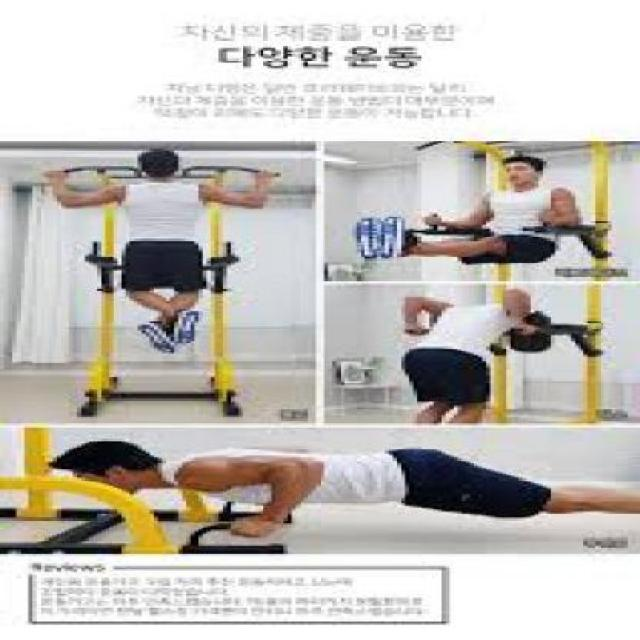chinning dipping: (40, 165, 285, 420)
